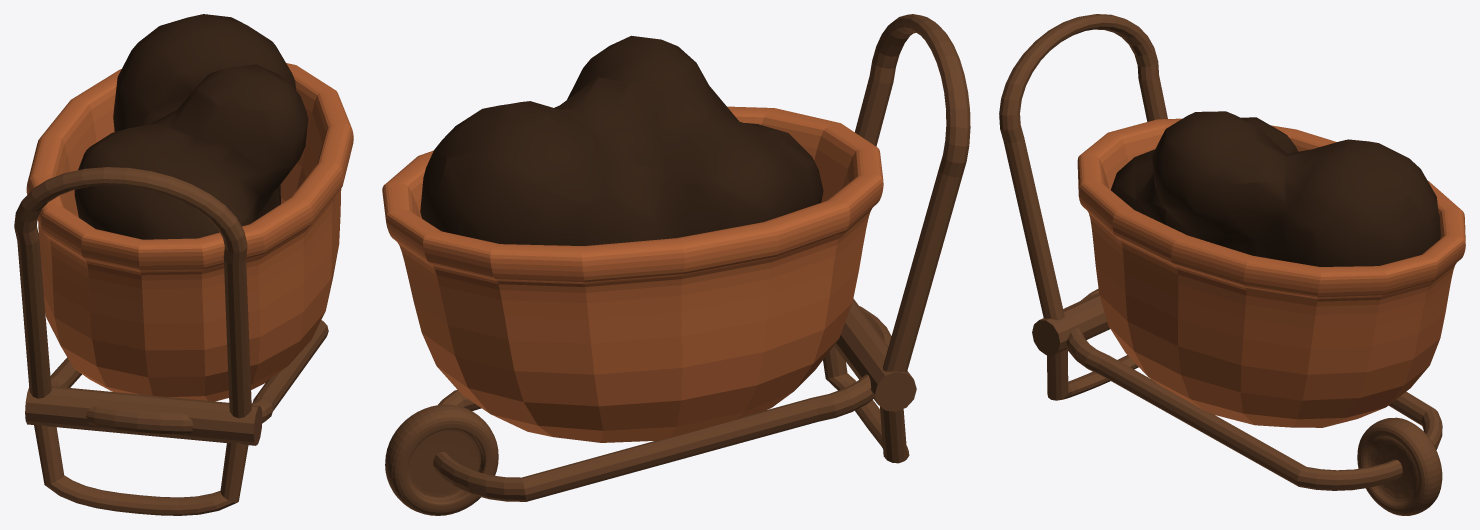
The model's file is trolley.fbx.
3 renders of one model, left to right at view 1: azimuth 30°, elevation 25°; view 2: azimuth 150°, elevation 25°; view 3: azimuth 270°, elevation 25°, orthographic. The views are drawn at different scales.
Visible parts, largest first — view 1: 柱体.040; view 2: 柱体.040; view 3: 柱体.040.
Part boxes in pixels (x1,y1,x2,y2): 柱体.040: (14,14,353,515); 柱体.040: (382,14,970,515); 柱体.040: (999,14,1465,515).
Size of the model in its own units: 612 by 592 by 524.
